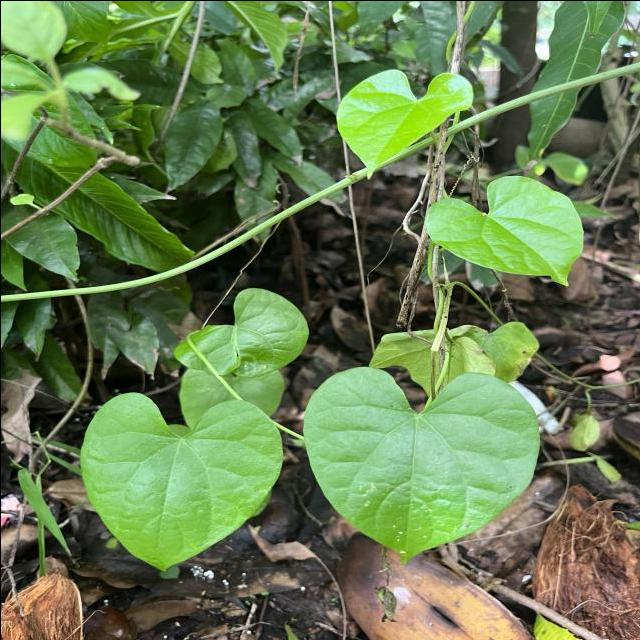Tinospora cordifolia: (300, 362, 541, 566), (76, 388, 286, 573), (423, 173, 584, 287), (334, 66, 474, 181)
